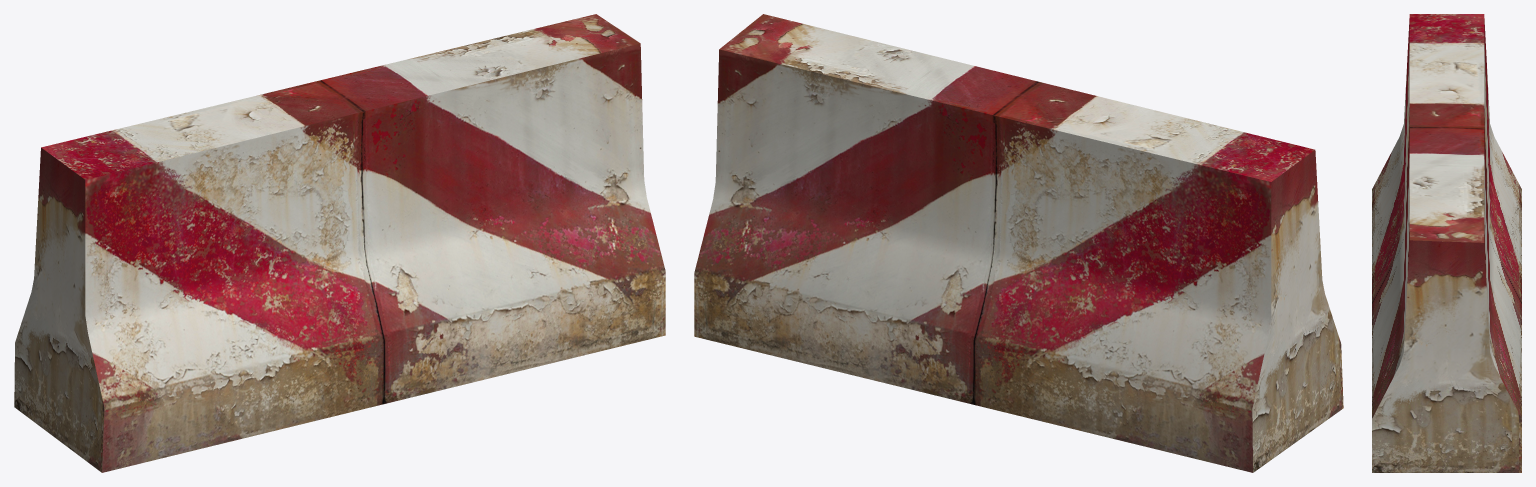
Rendered from roadblock1.fbx.
3 views of the same model, side by side, from view 1: azimuth 30°, elevation 25°; view 2: azimuth 150°, elevation 25°; view 3: azimuth 270°, elevation 25° (orthographic). The views are drawn at different scales.
Parts seen in each view (by area): view 1: roadblock1; view 2: roadblock1; view 3: roadblock1.
Boxes of the visible parts, x1,y1,x2,y2 form: roadblock1: (14, 14, 665, 472); roadblock1: (694, 14, 1343, 472); roadblock1: (1372, 14, 1521, 472).
Size of the model in its own units: 182 by 49.87 by 85.
